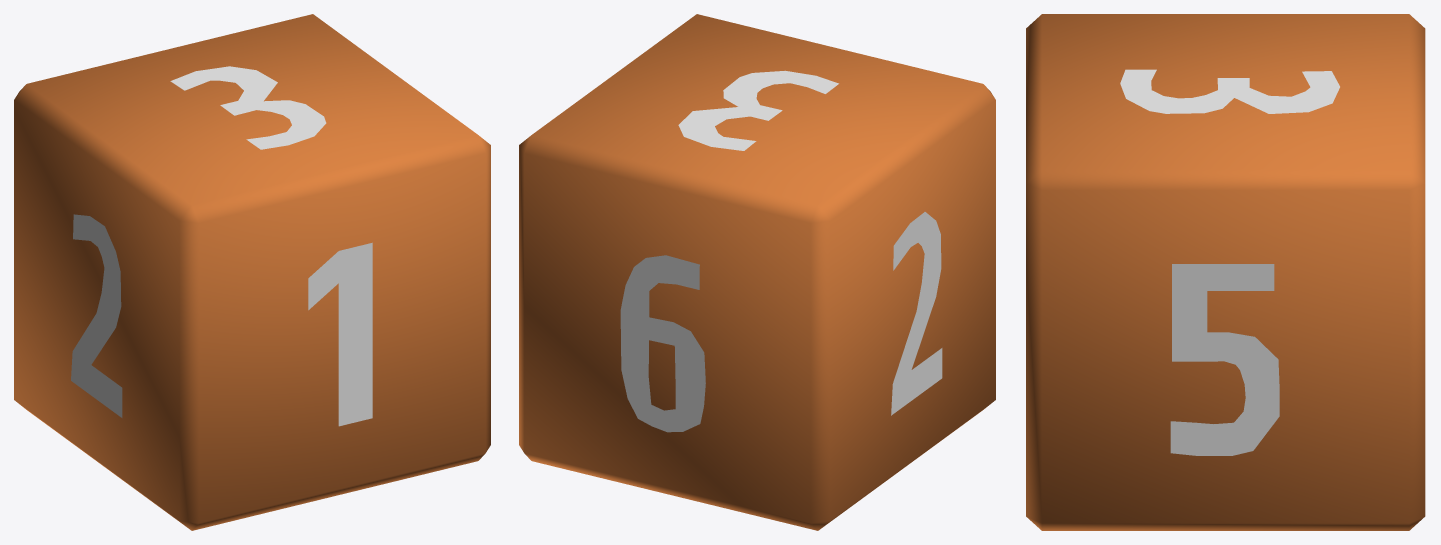
The picture shows the model from 3 angles, left to right: view 1: azimuth 30°, elevation 25°; view 2: azimuth 150°, elevation 25°; view 3: azimuth 270°, elevation 25°; orthographic projection. The views are drawn at different scales.
Visible parts, largest first — view 1: 6-Sided-Die; view 2: 6-Sided-Die; view 3: 6-Sided-Die.
Part boxes in pixels (x1,y1,x2,y2): 6-Sided-Die: (14, 14, 490, 530); 6-Sided-Die: (519, 14, 995, 530); 6-Sided-Die: (1026, 14, 1425, 530).
Size of the model in its own units: 91.02 by 91.06 by 90.99.
Materials: 2 (2 with a texture image).
